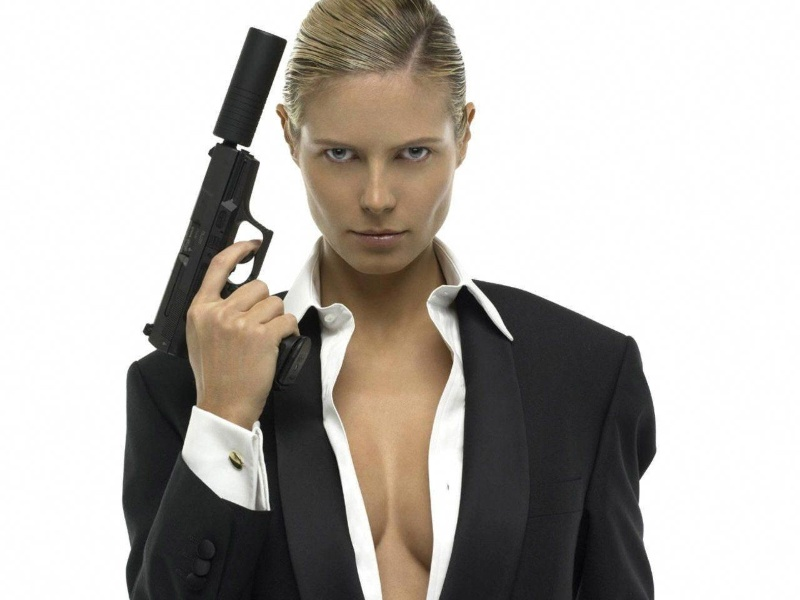person: (122, 1, 656, 600)
weapon: (142, 27, 312, 387)
